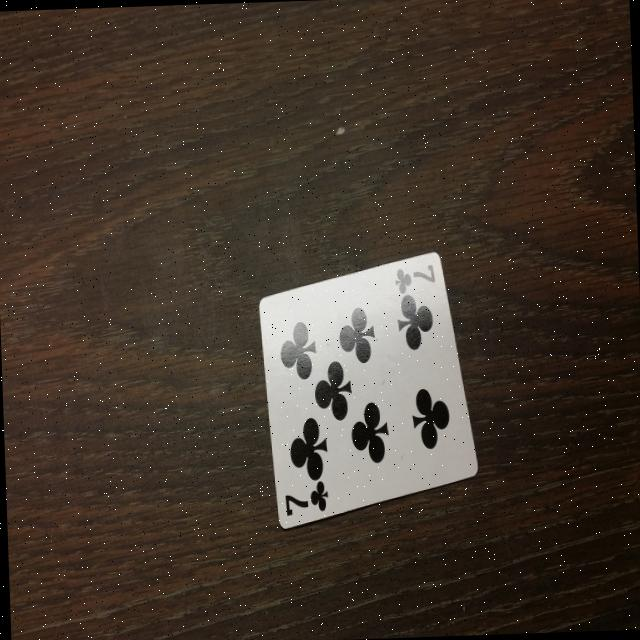7c: (278, 470, 334, 524), (390, 257, 441, 301)
